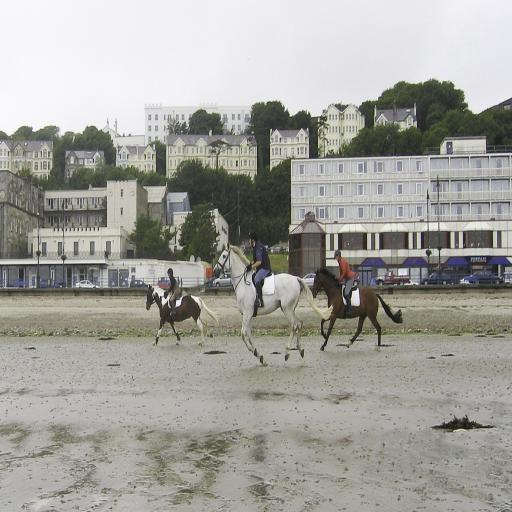horse: (211, 242, 332, 364), (309, 266, 403, 349), (146, 280, 218, 355)
